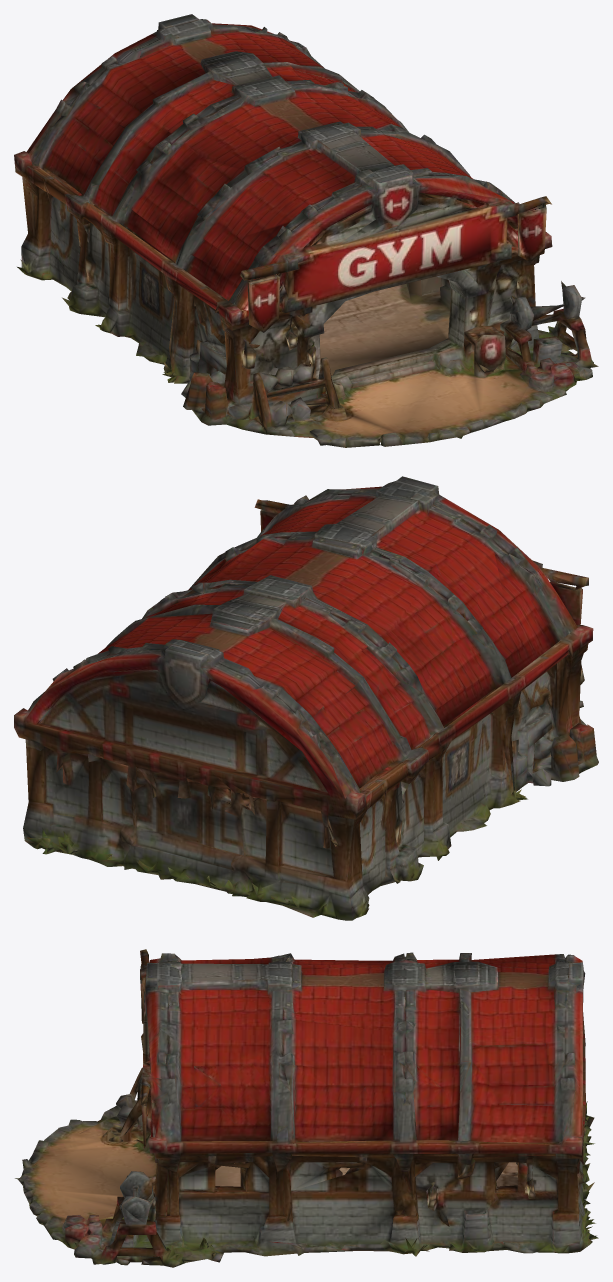
Rendered from life-gym.glb.
3 views of the same model, one above another, from view 1: azimuth 30°, elevation 25°; view 2: azimuth 150°, elevation 25°; view 3: azimuth 270°, elevation 25° (orthographic). The views are drawn at different scales.
Visible parts, largest first — view 1: Mesh1.0; view 2: Mesh1.0; view 3: Mesh1.0.
Part boxes in pixels (x1,y1,x2,y2): Mesh1.0: (14, 14, 598, 447); Mesh1.0: (14, 476, 598, 920); Mesh1.0: (15, 949, 598, 1267).
Size of the model in its own units: 1.36 by 0.7601 by 1.92.
1 material, 1 textured.
